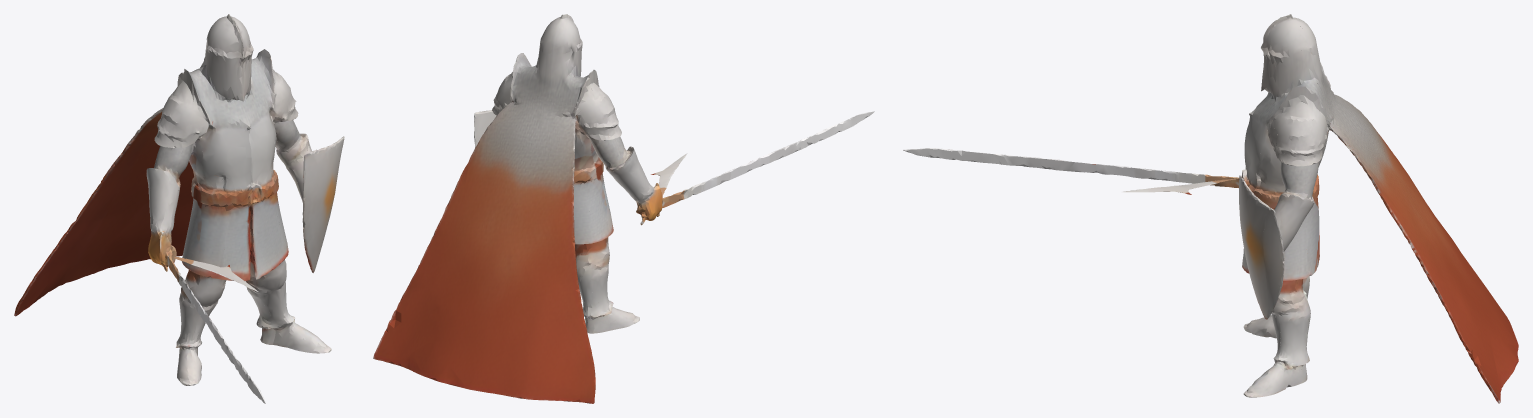
The model's file is knight_v2.glb.
3 views of the same model, side by side, from view 1: azimuth 30°, elevation 25°; view 2: azimuth 150°, elevation 25°; view 3: azimuth 270°, elevation 25° (orthographic). The views are drawn at different scales.
Parts seen in each view (by area): view 1: knight; view 2: knight; view 3: knight.
Part boxes in pixels (left/top/right/bottom): knight: left=14, top=14, right=344, bottom=403; knight: left=373, top=14, right=874, bottom=403; knight: left=903, top=14, right=1518, bottom=403.
Size of the model in its own units: 1.84 by 2.27 by 3.69.
1 material, 1 textured.
